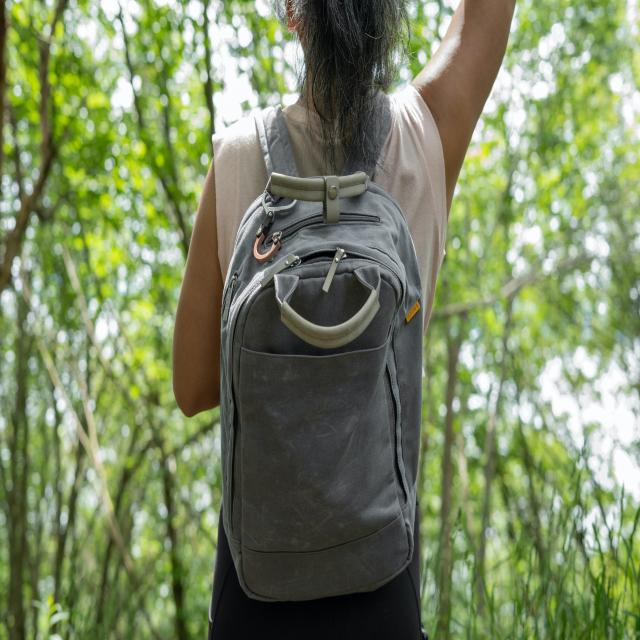backpack: (212, 99, 422, 598)
